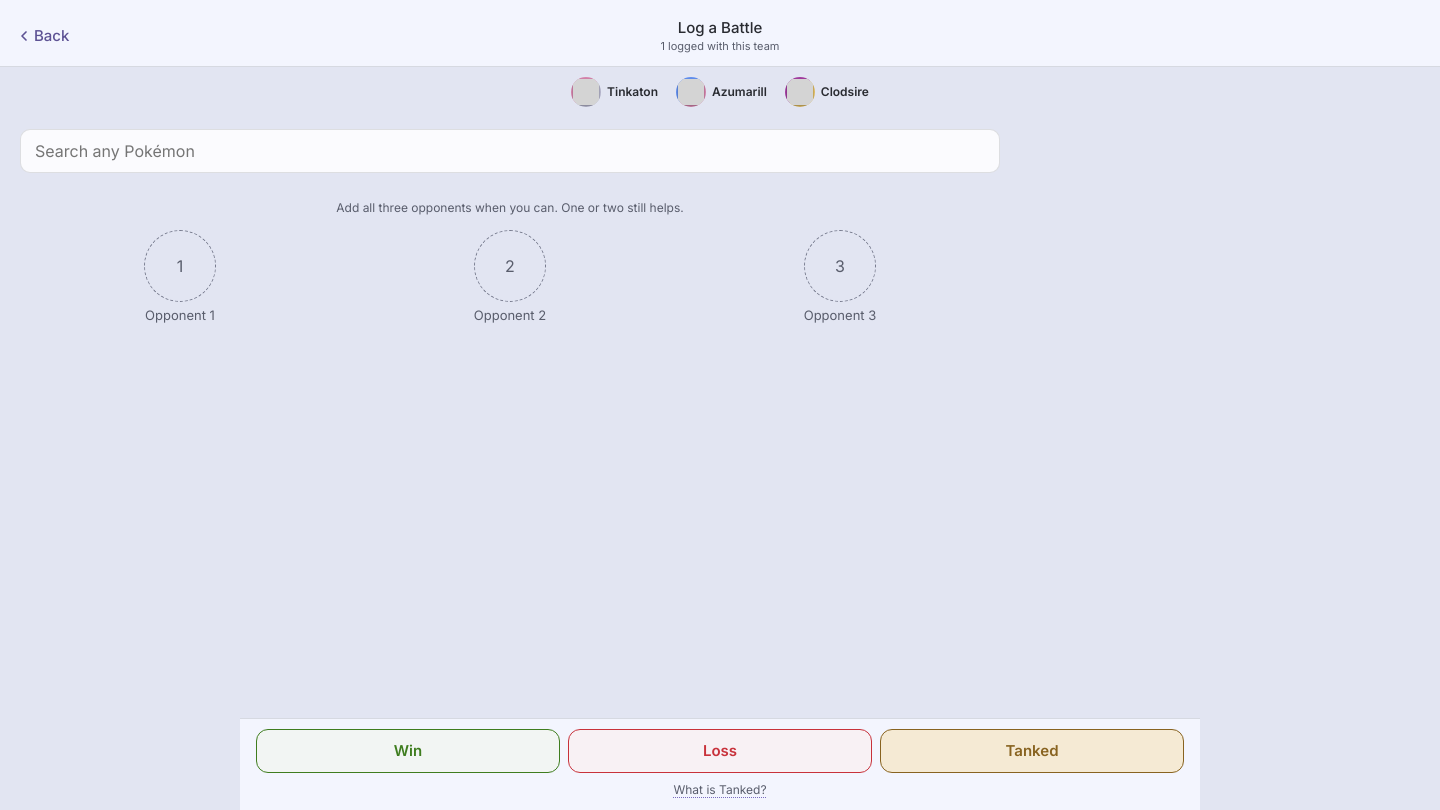
Test: Log a Battle on the foundation › still warns in amber when the phone refuses the save
Check: the text "1 logged with this team" is shown, box x1=660 y1=39 x2=779 y2=55
What coordinates should you click on to do the following:
click the button "Loss"
I would click on:
 (720, 751)
Its box is x1=568 y1=729 x2=872 y2=773.
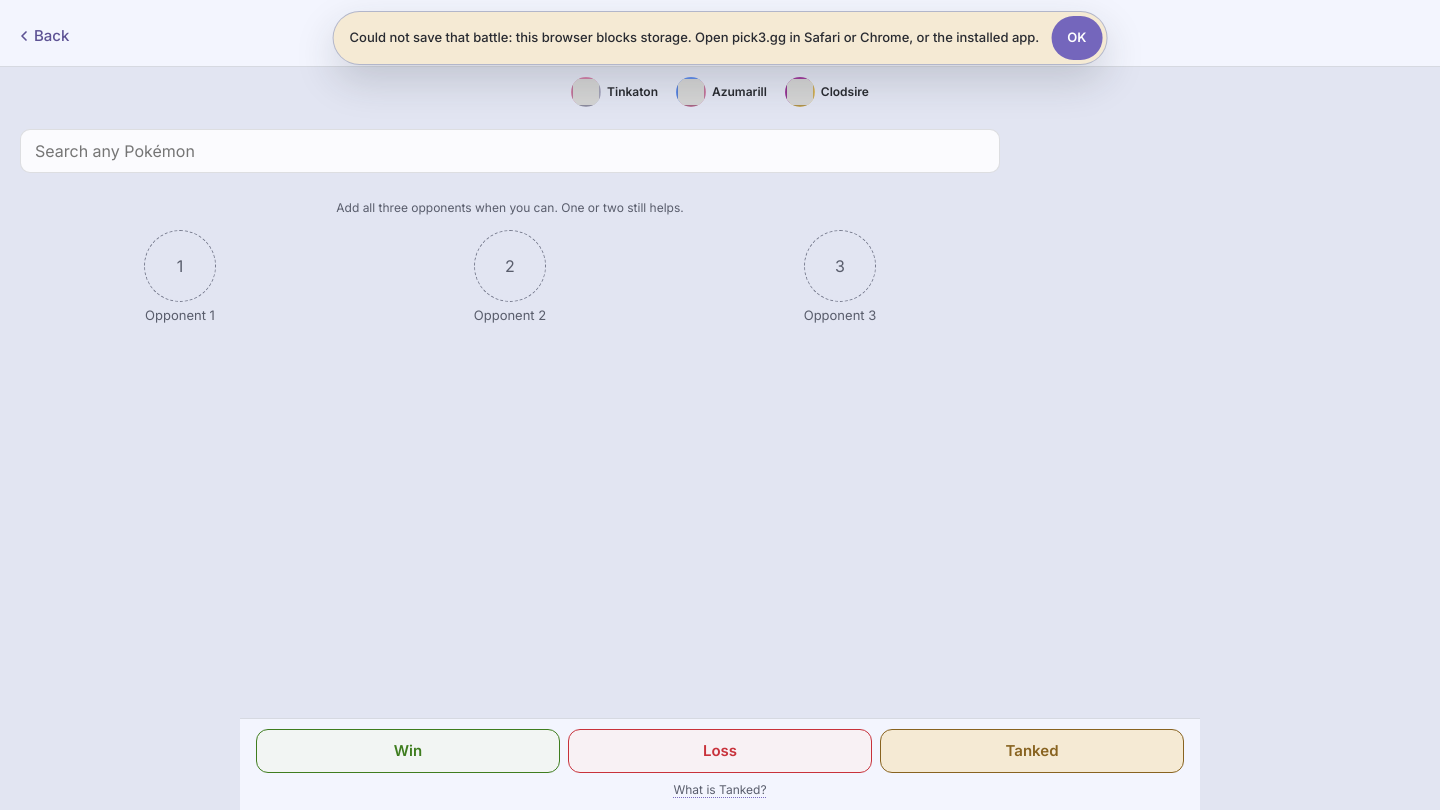
Check: the message shows "Could not save that battle", box x1=350 y1=29 x2=1039 y2=45
